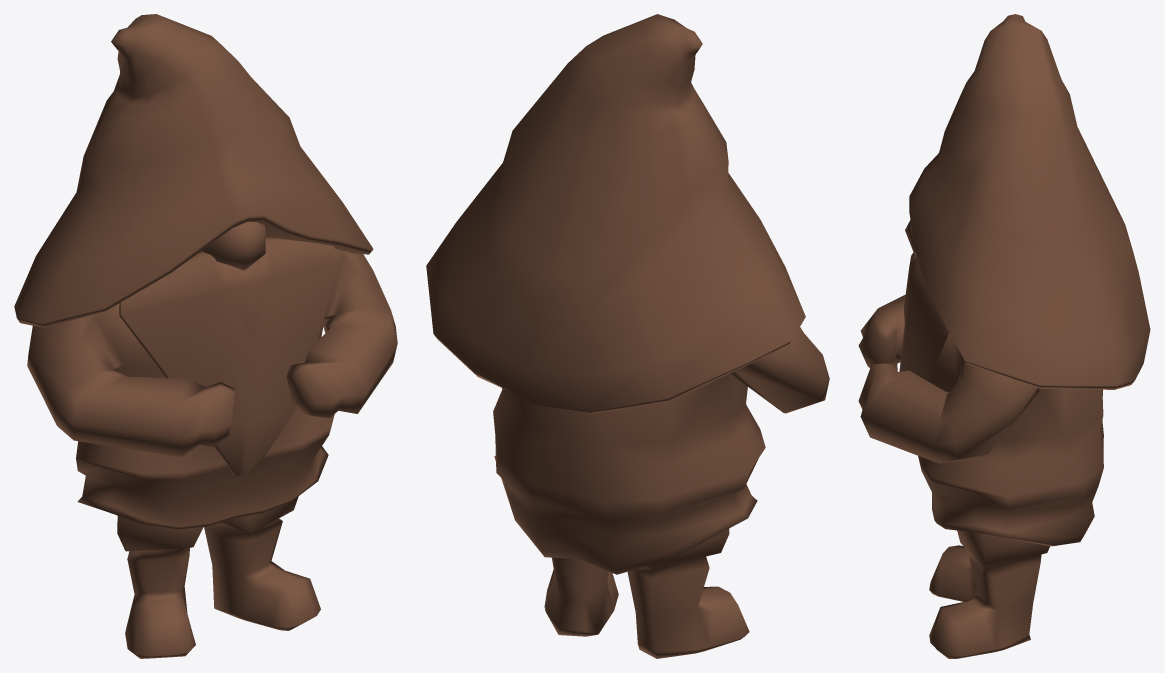
File: gnome_low.fbx
3 renders of one model, left to right at view 1: azimuth 30°, elevation 25°; view 2: azimuth 150°, elevation 25°; view 3: azimuth 270°, elevation 25°, orthographic. The views are drawn at different scales.
Visible parts, largest first — view 1: Hat_crooked, Body, Beard, Boot_double, Nose; view 2: Hat_crooked, Body, Boot_double; view 3: Hat_crooked, Body, Boot_double, Beard.
Part boxes in pixels (x1,y1,x2,y2): Hat_crooked: (14, 14, 373, 327); Body: (27, 249, 397, 529); Beard: (119, 238, 341, 475); Boot_double: (117, 496, 320, 658); Nose: (203, 222, 265, 270); Hat_crooked: (426, 14, 805, 413); Body: (493, 327, 829, 574); Boot_double: (544, 528, 749, 658); Hat_crooked: (909, 14, 1150, 389); Body: (858, 294, 1103, 546); Boot_double: (929, 530, 1049, 658); Beard: (899, 252, 948, 381).
Bounding box in the file's own units: 10.19 × 17.12 × 7.86.
